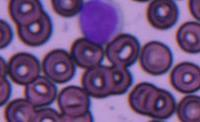L: (79, 0, 123, 45)
